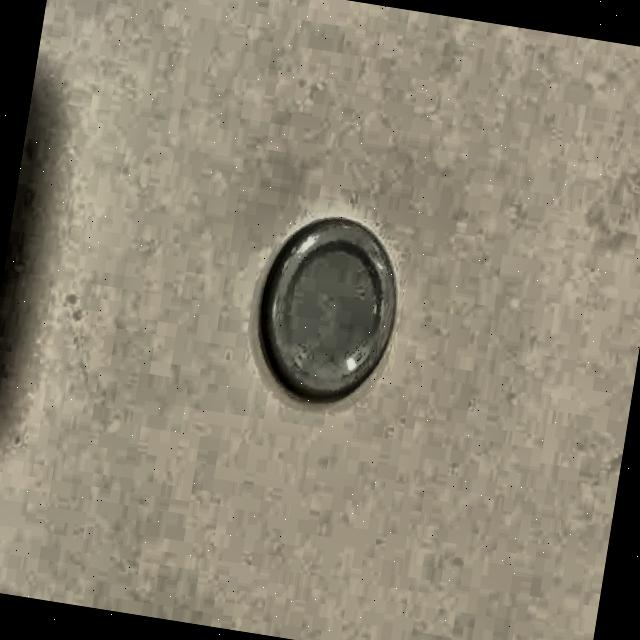metal: (244, 210, 410, 420)
